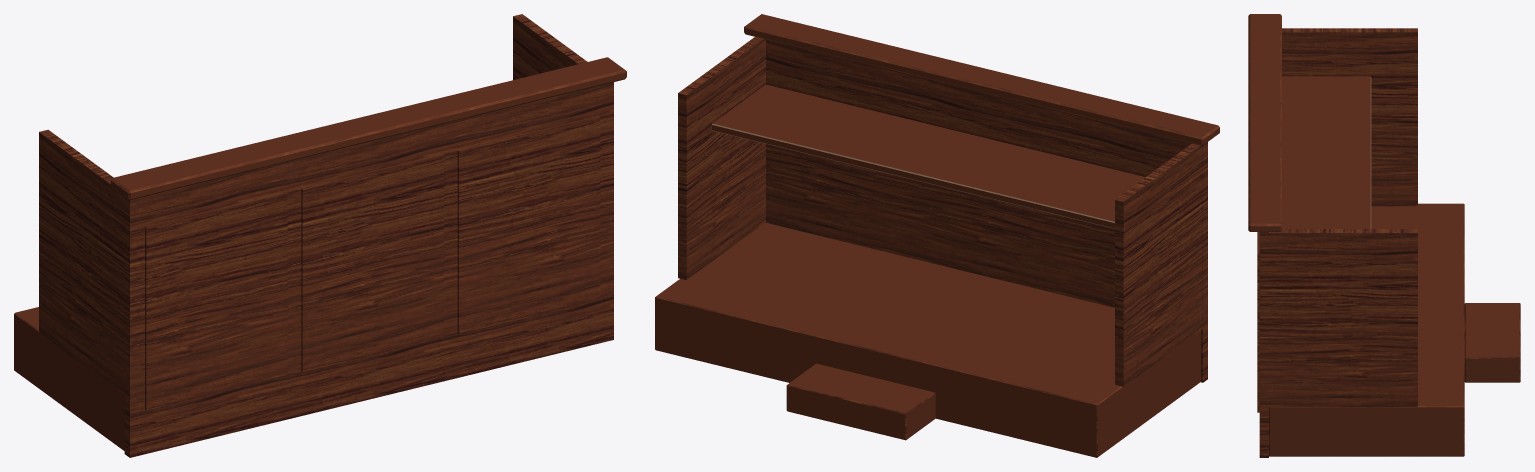
Rendered from judges_bench.glb.
The picture shows the model from 3 angles, left to right: view 1: azimuth 30°, elevation 25°; view 2: azimuth 150°, elevation 25°; view 3: azimuth 270°, elevation 25°; orthographic projection. The views are drawn at different scales.
Visible parts, largest first — view 1: judges_bench; view 2: judges_bench; view 3: judges_bench.
Part boxes in pixels (bbox=[...]): judges_bench: bbox=[14, 14, 626, 457]; judges_bench: bbox=[655, 14, 1219, 457]; judges_bench: bbox=[1248, 14, 1520, 457].
Bounding box in the file's own units: 2.68 × 1.4 × 1.46.
2 materials, 2 textured.
